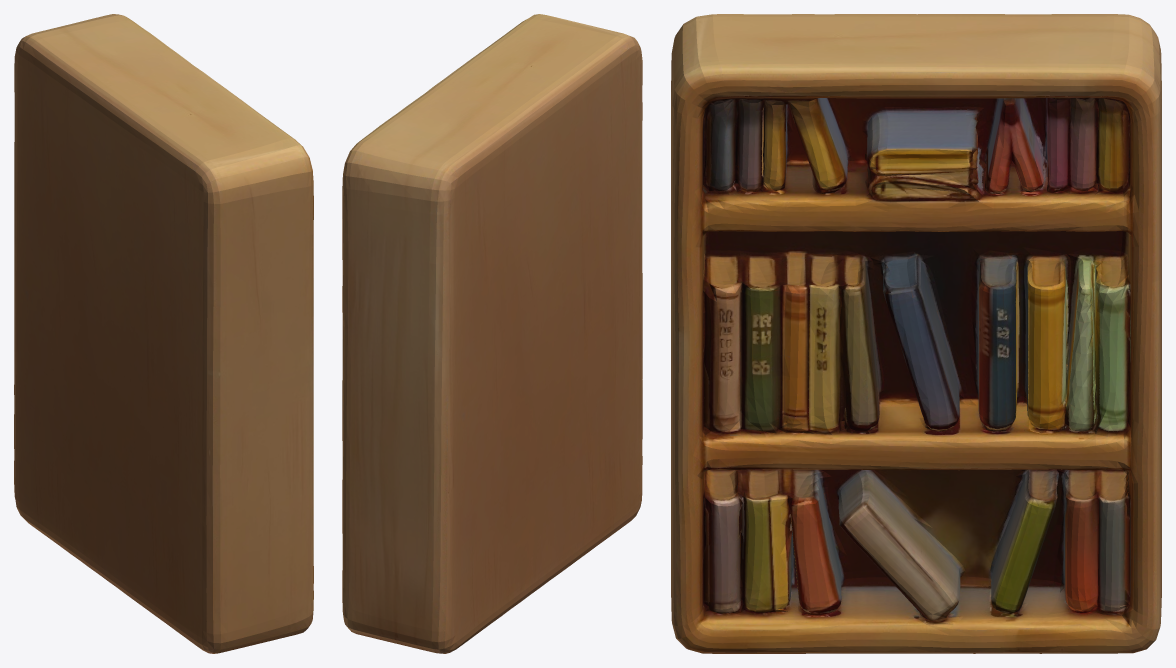
Rendered from wooden_bookshelf.glb.
3 renders of one model, left to right at view 1: azimuth 30°, elevation 25°; view 2: azimuth 150°, elevation 25°; view 3: azimuth 270°, elevation 25°, orthographic. The views are drawn at different scales.
Visible parts, largest first — view 1: tripo_node_92beb81a-e865-468d-98d4-7a1e0b0aa4fe; view 2: tripo_node_92beb81a-e865-468d-98d4-7a1e0b0aa4fe; view 3: tripo_node_92beb81a-e865-468d-98d4-7a1e0b0aa4fe.
Boxes of the visible parts, x1,y1,x2,y2 form: tripo_node_92beb81a-e865-468d-98d4-7a1e0b0aa4fe: (14,14,313,653); tripo_node_92beb81a-e865-468d-98d4-7a1e0b0aa4fe: (342,14,642,653); tripo_node_92beb81a-e865-468d-98d4-7a1e0b0aa4fe: (671,14,1161,653).
Bounding box in the file's own units: 0.2297 × 0.9998 × 0.7555.
1 material, 1 textured.
